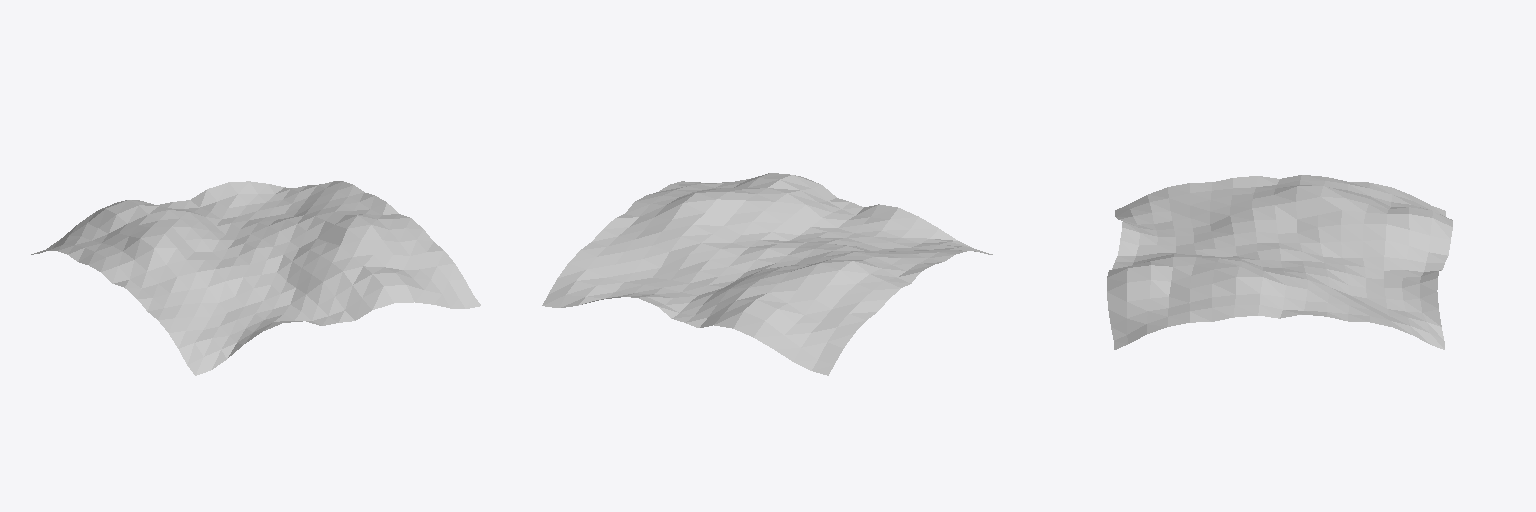
File: water_000150.obj
The picture shows the model from 3 angles: view 1: azimuth 30°, elevation 25°; view 2: azimuth 150°, elevation 25°; view 3: azimuth 270°, elevation 25°; orthographic projection.
Parts seen in each view (by area): view 1: Plan.003_Plan.001; view 2: Plan.003_Plan.001; view 3: Plan.003_Plan.001.
Boxes of the visible parts, box(x1,y1,x2,y2) form: Plan.003_Plan.001: box(31, 181, 480, 375); Plan.003_Plan.001: box(542, 173, 992, 375); Plan.003_Plan.001: box(1107, 175, 1452, 349).
Bounding box in the file's own units: 60818 × 9879 × 63245.